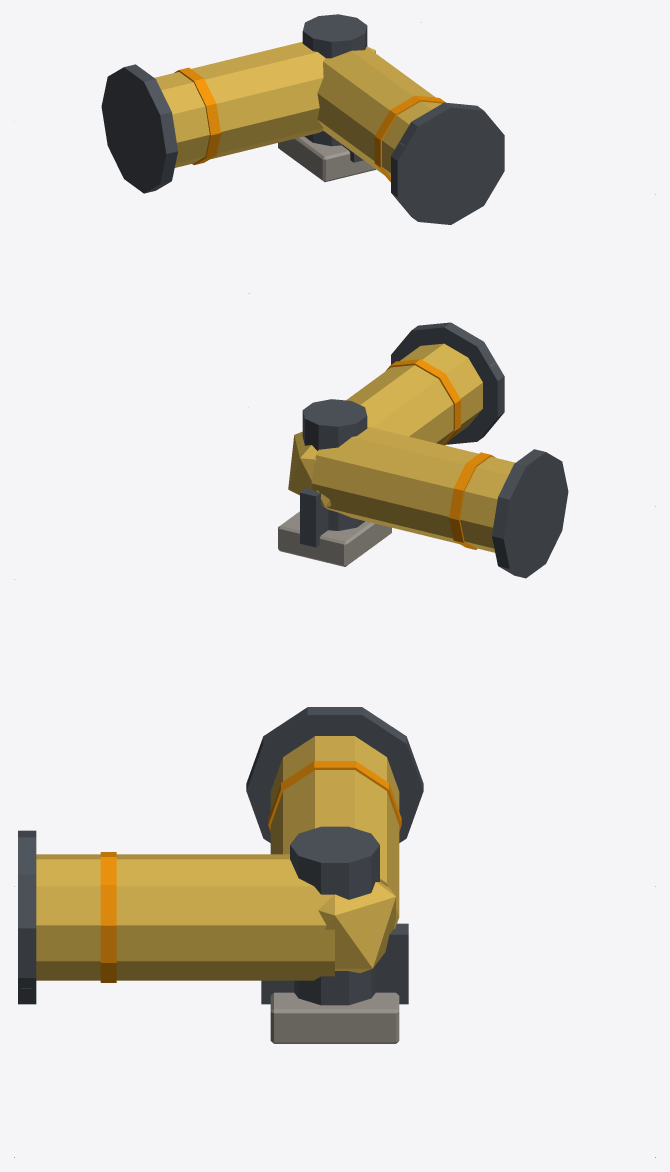
Rendered from tuyau_coude_t2.glb.
The picture shows the model from 3 angles, top to bottom: view 1: azimuth 30°, elevation 25°; view 2: azimuth 150°, elevation 25°; view 3: azimuth 270°, elevation 25°; orthographic projection. The views are drawn at different scales.
Visible parts, largest first — view 1: pieces_laiton.014, pieces_acier_sombre.044, pieces_beton.044, pieces_rive_t2.014; view 2: pieces_laiton.014, pieces_acier_sombre.044, pieces_beton.044, pieces_rive_t2.014; view 3: pieces_laiton.014, pieces_acier_sombre.044, pieces_beton.044, pieces_rive_t2.014.
Boxes of the visible parts, box(x1,y1,x2,y2) form: pieces_laiton.014: box(154, 41, 441, 176); pieces_acier_sombre.044: box(101, 14, 504, 224); pieces_beton.044: box(278, 136, 375, 181); pieces_rive_t2.014: box(174, 67, 445, 181); pieces_laiton.014: box(288, 343, 515, 552); pieces_acier_sombre.044: box(300, 322, 568, 578); pieces_beton.044: box(278, 511, 391, 566); pieces_rive_t2.014: box(386, 359, 495, 549); pieces_laiton.014: box(36, 736, 399, 980); pieces_acier_sombre.044: box(18, 707, 423, 1005); pieces_beton.044: box(270, 992, 399, 1043); pieces_rive_t2.014: box(100, 761, 401, 982).
Bounding box in the file's own units: 1 × 0.318 × 1.
